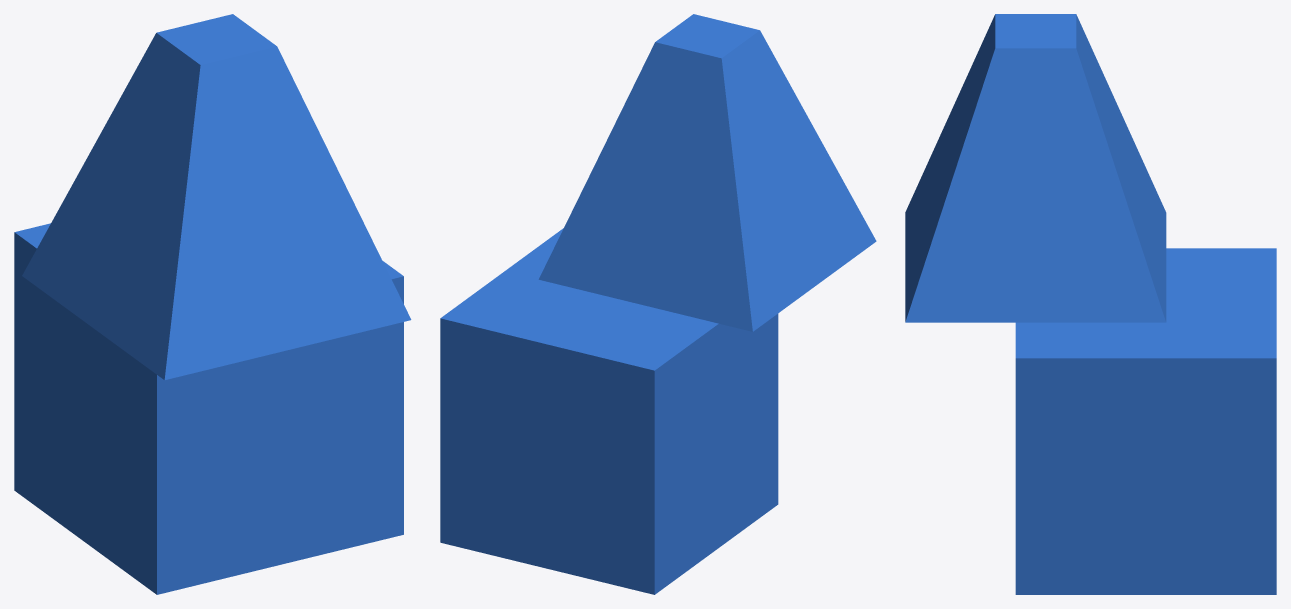
The picture shows the model from 3 angles, left to right: view 1: azimuth 30°, elevation 25°; view 2: azimuth 150°, elevation 25°; view 3: azimuth 270°, elevation 25°; orthographic projection. The views are drawn at different scales.
Visible parts, largest first — view 1: Cube; view 2: Cube; view 3: Cube.
Part boxes in pixels (x1,y1,x2,y2): Cube: (14, 14, 411, 594); Cube: (440, 14, 876, 594); Cube: (905, 14, 1276, 594).
Size of the model in its own units: 2.43 by 4.1 by 2.85.
